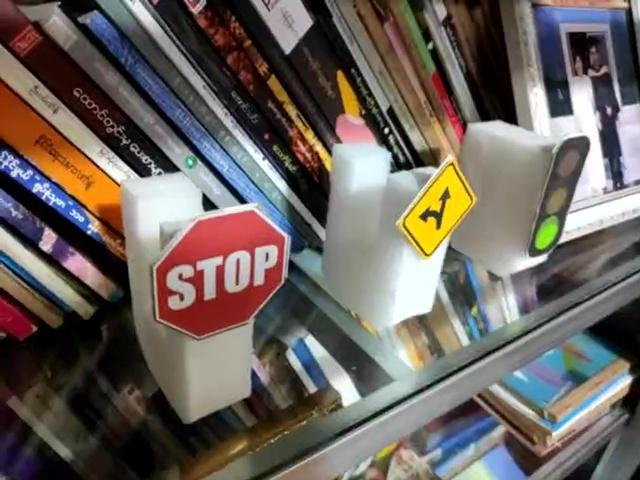Green Traffic Light: (528, 135, 589, 257)
Stop Sign: (152, 205, 292, 342)
Straight Or Left Sign: (397, 157, 476, 259)
